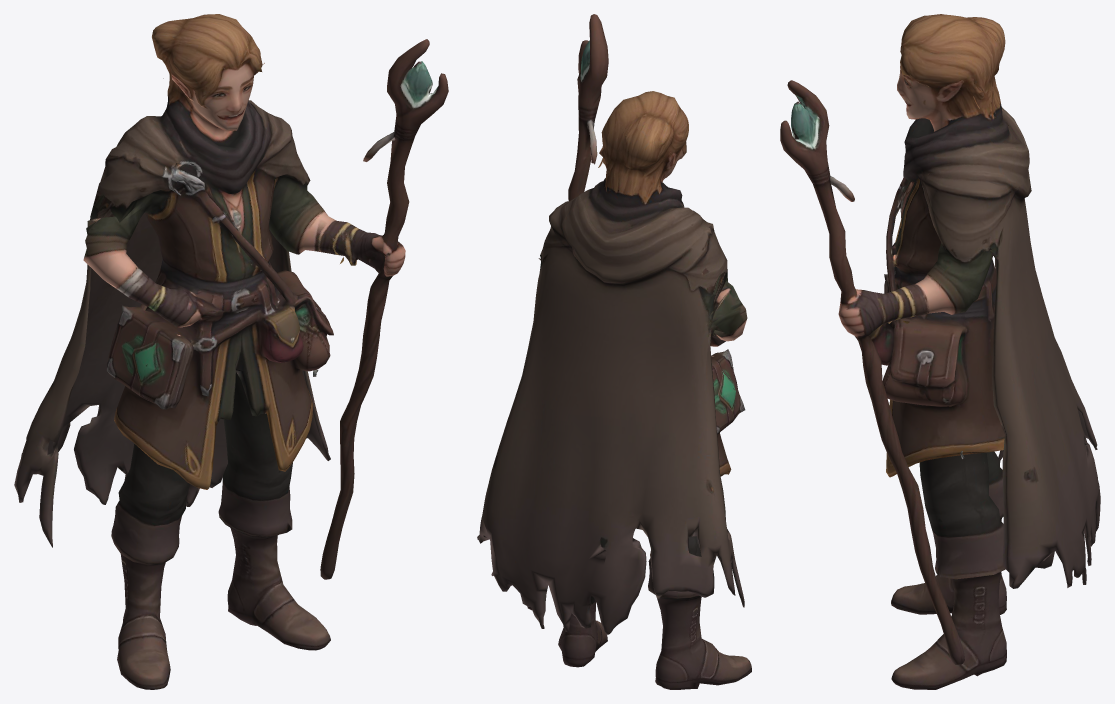
The model's file is Bruxo.glb.
The picture shows the model from 3 angles, left to right: view 1: azimuth 30°, elevation 25°; view 2: azimuth 150°, elevation 25°; view 3: azimuth 270°, elevation 25°; orthographic projection. The views are drawn at different scales.
Parts seen in each view (by area): view 1: tripo_node_94f87b33-fa61-4fea-af33-f577a673b9c1; view 2: tripo_node_94f87b33-fa61-4fea-af33-f577a673b9c1; view 3: tripo_node_94f87b33-fa61-4fea-af33-f577a673b9c1.
Part boxes in pixels (x1,y1,x2,y2): tripo_node_94f87b33-fa61-4fea-af33-f577a673b9c1: [14, 14, 448, 689]; tripo_node_94f87b33-fa61-4fea-af33-f577a673b9c1: [477, 14, 751, 689]; tripo_node_94f87b33-fa61-4fea-af33-f577a673b9c1: [780, 14, 1100, 689].
Bounding box in the file's own units: 0.493 × 0.9931 × 0.4591.
Materials: 1 (1 with a texture image).
